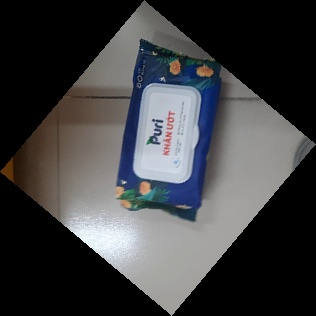Puri Xanh: (115, 37, 223, 225)
